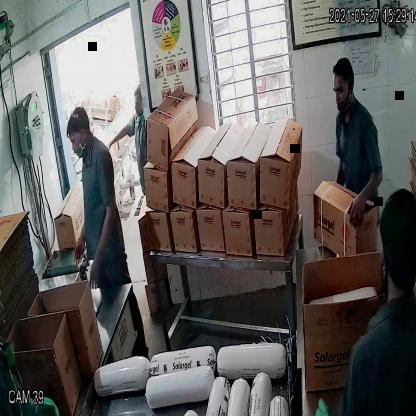no_goggles: (330, 79, 355, 100), (65, 131, 88, 150)
